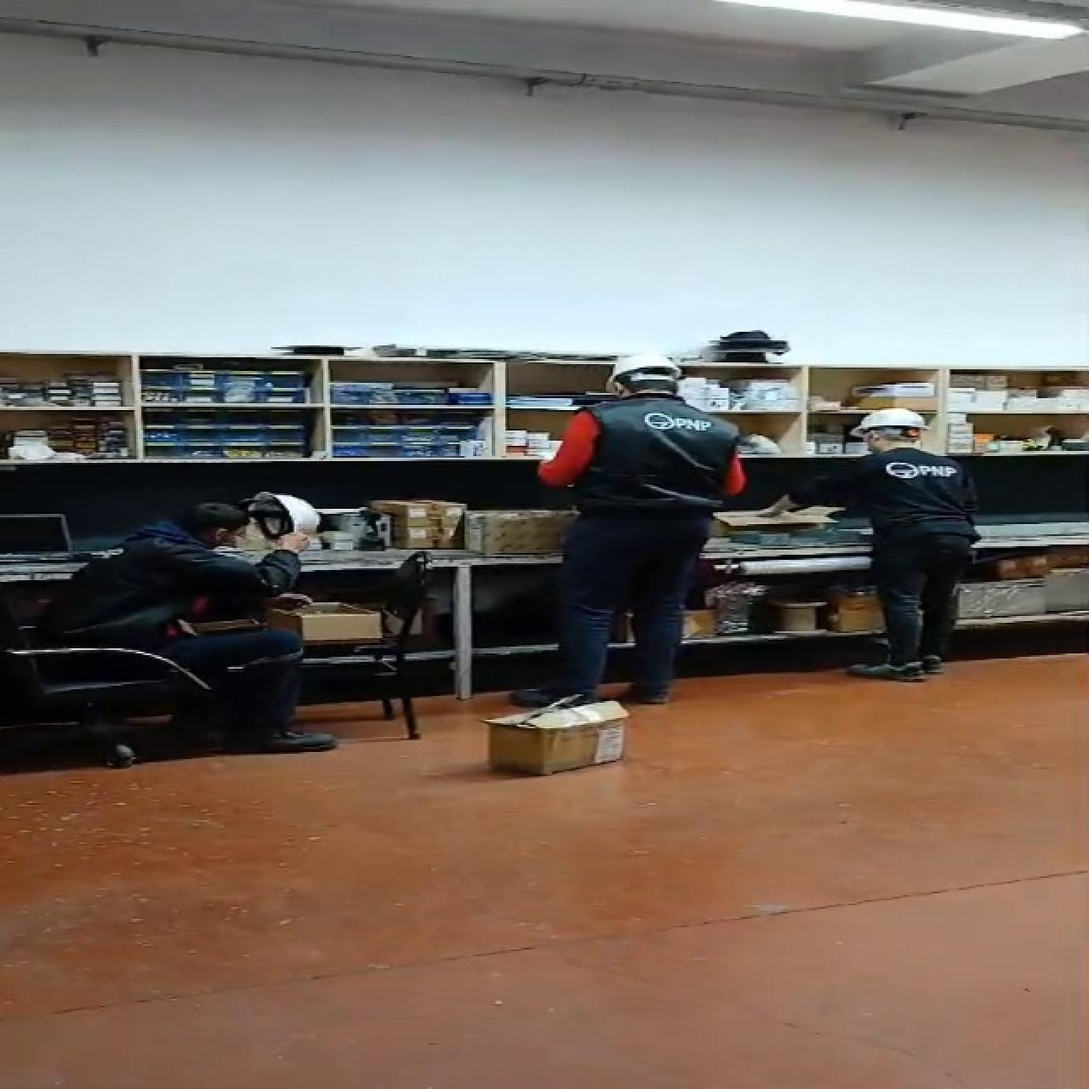NO_Safety_Vest: (38, 525, 187, 656), (590, 405, 732, 520), (869, 455, 968, 535)
Person: (19, 485, 352, 759), (514, 341, 747, 714), (825, 401, 976, 692)
